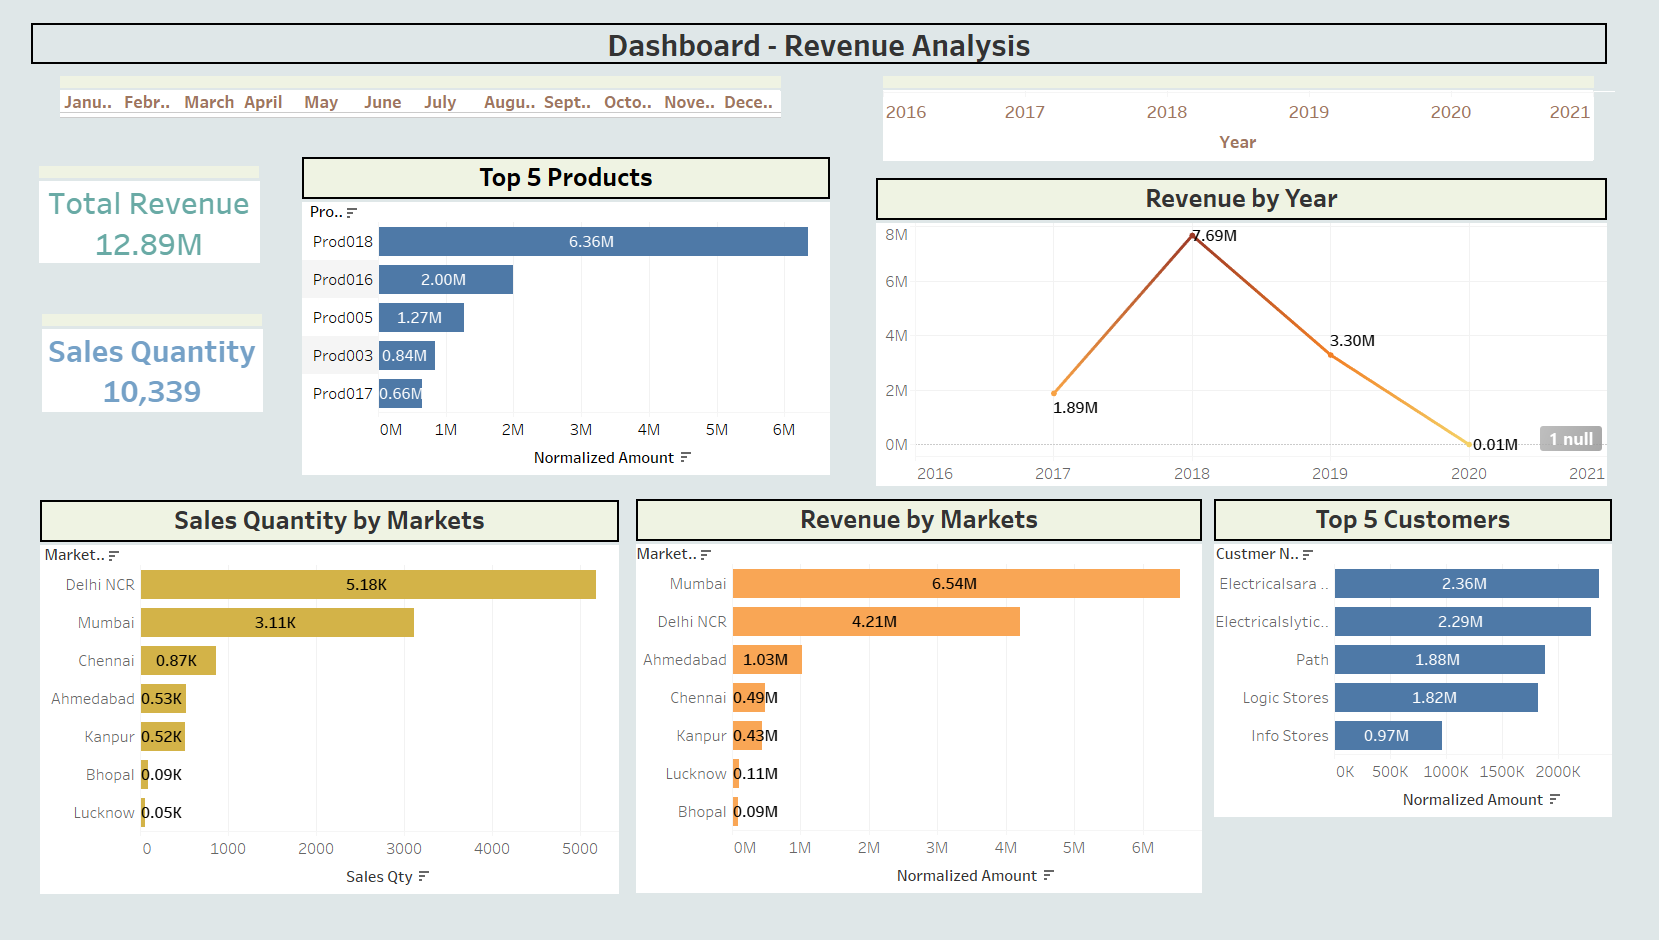

This screenshot's page, from the dashboard's own definition file:
{"tool":"tableau","page":{"name":"Dashboard - Revenue Analysis","canvas":[1600,900],"ordinal":0},"visuals":[{"type":"title","box":[8,8,1584,49]},{"type":"worksheet","title":"Month","mark":"Automatic","cols":["month_name"],"box":[41,65,840,69]},{"type":"worksheet","title":"Year","mark":"Automatic","cols":["year"],"box":[864,65,732,85]},{"type":"worksheet","title":"Top 5 Products","mark":"Automatic","rows":["product_code (products)"],"cols":["Calculation_1247215647217033216"],"box":[283,146,528,324]},{"type":"worksheet","title":"Revenue","mark":"Automatic","box":[20,155,248,108]},{"type":"worksheet","title":"Revenue by Year","mark":"Automatic","rows":["Calculation_1247215647217033216"],"cols":["year"],"box":[857,167,731,308]},{"type":"worksheet","title":"Quantity","mark":"Automatic","box":[23,303,230,130]},{"type":"worksheet","title":"Revenue by Markets","mark":"Automatic","rows":["markets_name"],"cols":["Calculation_1247215647217033216"],"box":[617,488,566,398]},{"type":"worksheet","title":"Sales Quantity by Markets","mark":"Automatic","rows":["markets_name"],"cols":["sales_qty"],"box":[21,489,579,399]}]}

Visuals, with their boxes in screenshot pixels (x1, y1, x2, y2), scaled from the page's 1600x900 canvas onto the 1659x940 screenshot:
title: pyautogui.locateOnScreen(8, 8, 1651, 60)
"Month" worksheet: pyautogui.locateOnScreen(43, 68, 913, 140)
"Year" worksheet: pyautogui.locateOnScreen(896, 68, 1655, 157)
"Top 5 Products" worksheet: pyautogui.locateOnScreen(293, 152, 841, 491)
"Revenue" worksheet: pyautogui.locateOnScreen(21, 162, 278, 275)
"Revenue by Year" worksheet: pyautogui.locateOnScreen(889, 174, 1647, 496)
"Quantity" worksheet: pyautogui.locateOnScreen(24, 316, 262, 452)
"Revenue by Markets" worksheet: pyautogui.locateOnScreen(640, 510, 1227, 925)
"Sales Quantity by Markets" worksheet: pyautogui.locateOnScreen(22, 511, 622, 927)
